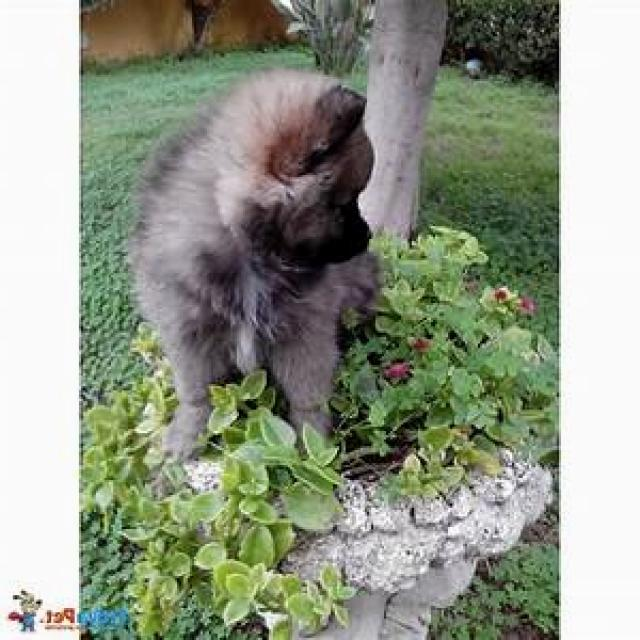KOPEK: (105, 34, 414, 478)
